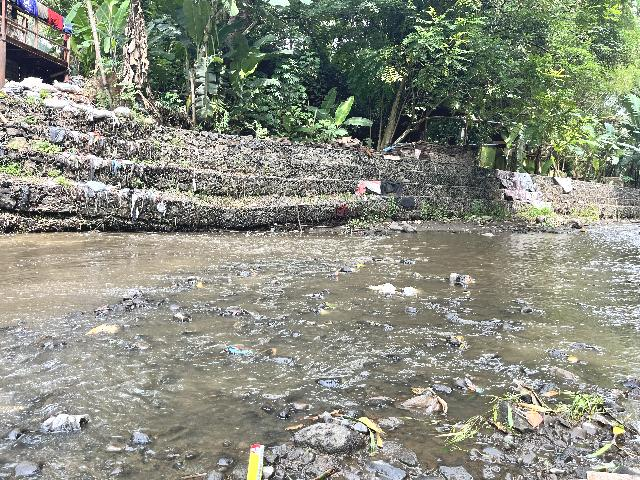Sampah Anorganik: (401, 388, 448, 414), (246, 439, 266, 480), (439, 271, 480, 289), (364, 283, 396, 295), (461, 378, 482, 395), (222, 343, 251, 355), (402, 285, 417, 297), (304, 293, 327, 300), (353, 263, 365, 269), (271, 280, 279, 284)
Sampah Organik: (482, 387, 640, 480), (289, 409, 391, 451), (83, 319, 121, 337), (451, 334, 469, 350), (257, 347, 282, 358), (316, 302, 335, 316), (563, 352, 581, 365), (179, 472, 208, 479), (91, 306, 110, 312), (193, 280, 206, 288), (229, 309, 242, 317), (249, 268, 258, 274), (334, 270, 339, 277)
